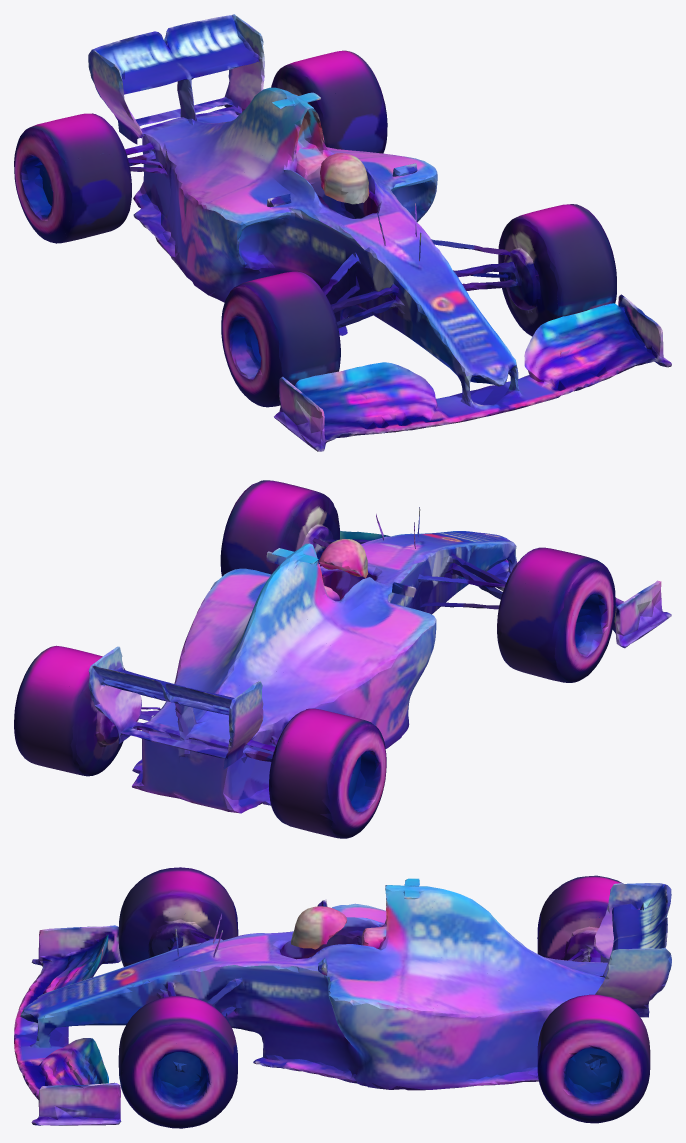
3 views of the same model, one above another, from view 1: azimuth 30°, elevation 25°; view 2: azimuth 150°, elevation 25°; view 3: azimuth 270°, elevation 25° (orthographic). The views are drawn at different scales.
Parts seen in each view (by area): view 1: panel_bumper_f, panel_trunk, body, panel_hood, panel_bumper_r, susp_front_L, panel_roof, susp_front_R, susp_rear_L, wheel_rear_L, wheel_front_L, susp_rear_R (+1 smaller); view 2: panel_trunk, panel_bumper_r, body, panel_hood, susp_front_L, panel_bumper_f, panel_roof, susp_rear_R, susp_rear_L, wheel_rear_L, susp_front_R; view 3: panel_trunk, body, panel_bumper_f, panel_hood, panel_bumper_r, panel_roof, susp_front_R, wheel_rear_R, susp_front_L, susp_rear_R, wheel_front_R, susp_rear_L (+1 smaller).
Boxes of the visible parts, x1=… form: panel_bumper_f: x1=226, y1=225, x2=616, y2=429; panel_trunk: x1=24, y1=14, x2=377, y2=276; body: x1=187, y1=152, x2=437, y2=328; panel_hood: x1=221, y1=203, x2=608, y2=375; panel_bumper_r: x1=27, y1=68, x2=386, y2=256; susp_front_L: x1=228, y1=249, x2=435, y2=451; panel_roof: x1=254, y1=91, x2=417, y2=226; susp_front_R: x1=426, y1=202, x2=671, y2=387; susp_rear_L: x1=21, y1=150, x2=244, y2=295; wheel_rear_L: x1=14, y1=127, x2=72, y2=241; wheel_front_L: x1=272, y1=310, x2=340, y2=403; susp_rear_R: x1=320, y1=86, x2=429, y2=221; panel_trunk: x1=24, y1=562, x2=382, y2=755; panel_bumper_r: x1=24, y1=652, x2=375, y2=813; body: x1=190, y1=567, x2=436, y2=748; panel_hood: x1=220, y1=480, x2=606, y2=680; susp_front_L: x1=488, y1=580, x2=671, y2=682; panel_bumper_f: x1=294, y1=500, x2=615, y2=682; panel_roof: x1=266, y1=539, x2=416, y2=634; susp_rear_R: x1=14, y1=681, x2=113, y2=776; susp_rear_L: x1=269, y1=738, x2=380, y2=838; wheel_rear_L: x1=328, y1=725, x2=386, y2=837; susp_front_R: x1=220, y1=510, x2=390, y2=576; panel_trunk: x1=429, y1=875, x2=671, y2=1089; body: x1=262, y1=903, x2=442, y2=1089; panel_bumper_f: x1=14, y1=883, x2=214, y2=1127; panel_hood: x1=132, y1=867, x2=271, y2=1118; panel_bumper_r: x1=481, y1=890, x2=660, y2=1085; panel_roof: x1=256, y1=878, x2=441, y2=975; susp_front_R: x1=24, y1=1010, x2=237, y2=1128; wheel_rear_R: x1=539, y1=1022, x2=648, y2=1122; susp_front_L: x1=26, y1=883, x2=238, y2=996; susp_rear_R: x1=349, y1=1009, x2=650, y2=1123; wheel_front_R: x1=107, y1=1013, x2=161, y2=1113; susp_rear_L: x1=537, y1=891, x2=599, y2=960.
Bounding box in the file's own units: 2.37 × 1.13 × 4.
Materials: 1 (1 with a texture image).
